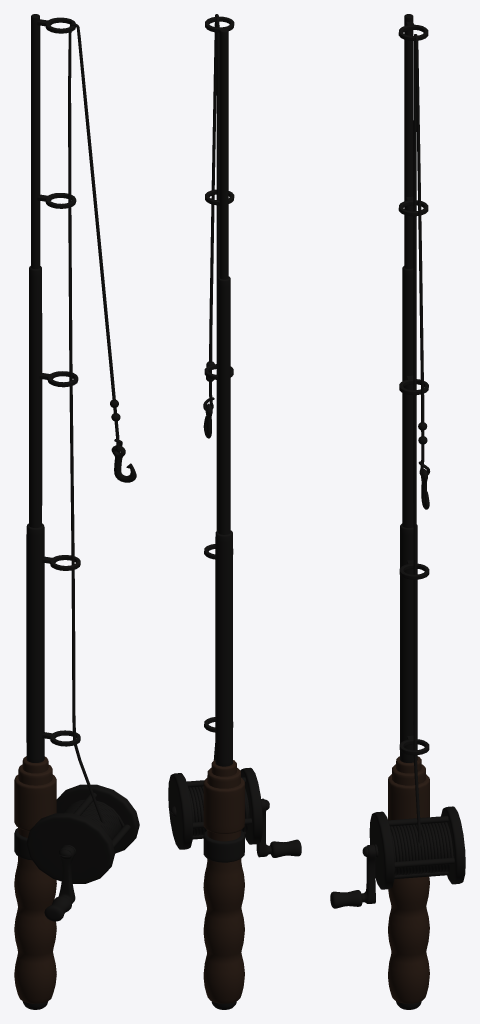
3 renders of one model, left to right at view 1: azimuth 30°, elevation 25°; view 2: azimuth 150°, elevation 25°; view 3: azimuth 330°, elevation 25°, orthographic.
Visible parts, largest first — view 1: body.001, setting_2; view 2: body.001, setting_2; view 3: body.001, setting_2.
Part boxes in pixels (left/top/right/bottom): body.001: left=14, top=14, right=139, bottom=1009; setting_2: left=14, top=756, right=56, bottom=1003; body.001: left=168, top=14, right=301, bottom=1009; setting_2: left=203, top=760, right=244, bottom=1003; body.001: left=330, top=14, right=465, bottom=1009; setting_2: left=388, top=756, right=429, bottom=1003.
Size of the model in its own units: 21.19 by 19.76 by 175.
